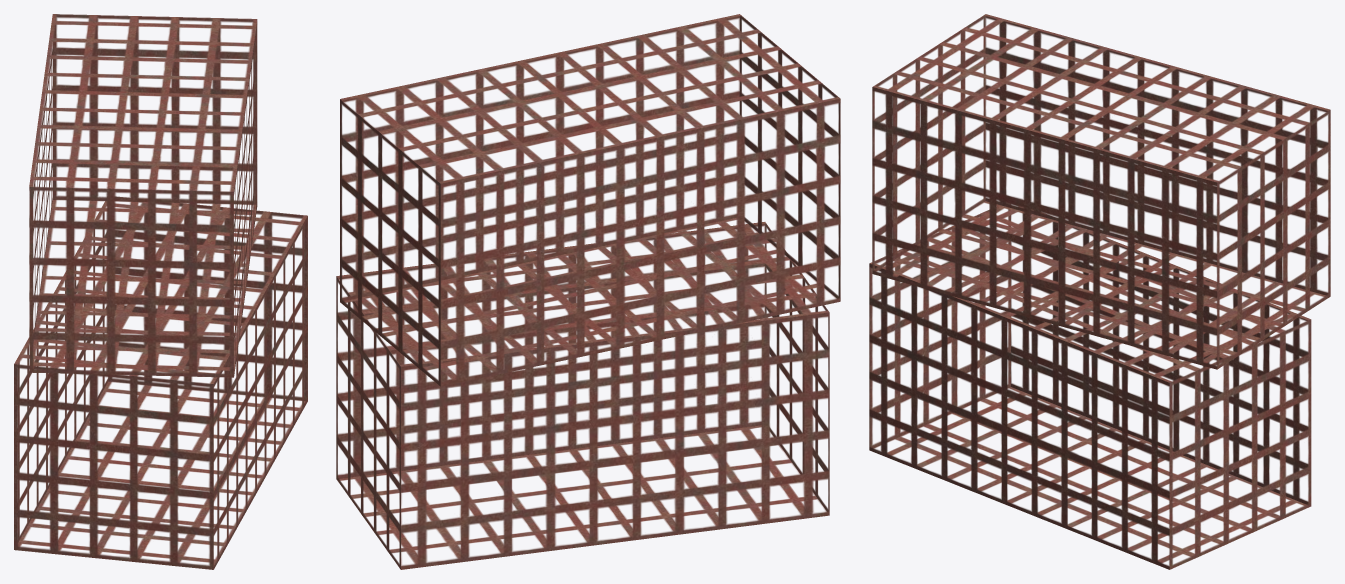
The model's file is cages_2_long_stacked.glb.
3 views of the same model, side by side, from view 1: azimuth 30°, elevation 25°; view 2: azimuth 150°, elevation 25°; view 3: azimuth 270°, elevation 25° (orthographic). The views are drawn at different scales.
Parts seen in each view (by area): view 1: cages_2-long_stacked_Baked; view 2: cages_2-long_stacked_Baked; view 3: cages_2-long_stacked_Baked.
Boxes of the visible parts, <box> form: cages_2-long_stacked_Baked: <box>14,14,307,569</box>; cages_2-long_stacked_Baked: <box>336,14,840,569</box>; cages_2-long_stacked_Baked: <box>869,14,1330,569</box>.
Size of the model in its own units: 2.1 by 2 by 2.23.
Materials: 1 (1 with a texture image).
